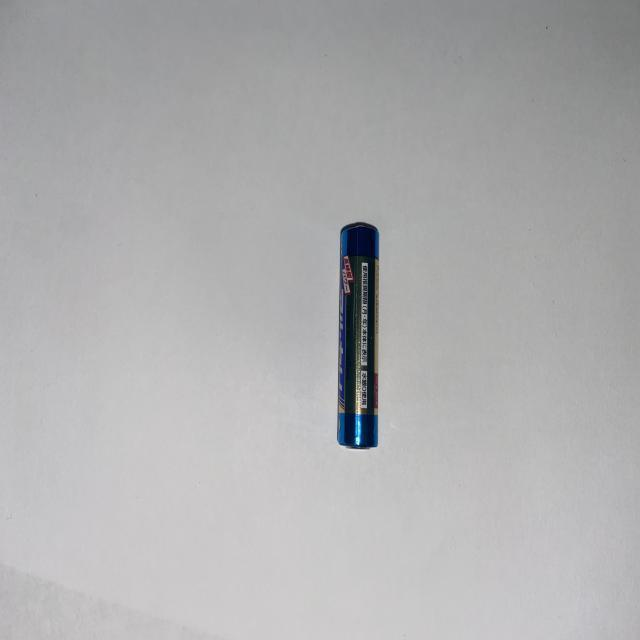Hazard: (336, 220, 381, 452)
